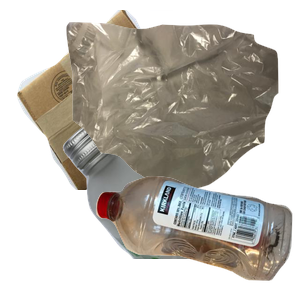cardboard: (14, 10, 222, 190)
glass: (60, 120, 300, 300)
plastic: (93, 173, 300, 300)
trash: (64, 20, 300, 200)
